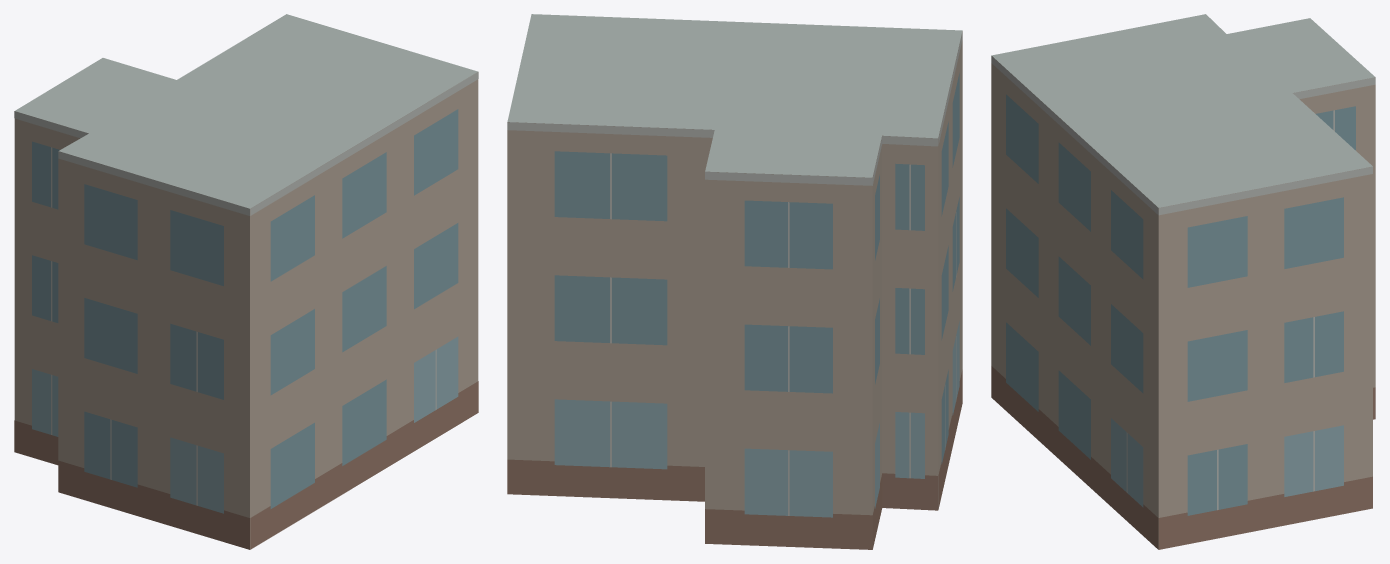
File: survey-upis-33038886.glb
3 renders of one model, left to right at view 1: azimuth 30°, elevation 25°; view 2: azimuth 150°, elevation 25°; view 3: azimuth 270°, elevation 25°, orthographic. The views are drawn at different scales.
Visible parts, largest first — view 1: survey-upis-33038886.tmp; view 2: survey-upis-33038886.tmp; view 3: survey-upis-33038886.tmp.
Part boxes in pixels (x1,y1,x2,y2): survey-upis-33038886.tmp: (14,14,478,549); survey-upis-33038886.tmp: (507,14,962,549); survey-upis-33038886.tmp: (991,14,1375,549).
Bounding box in the file's own units: 13.62 × 11.19 × 11.41.
